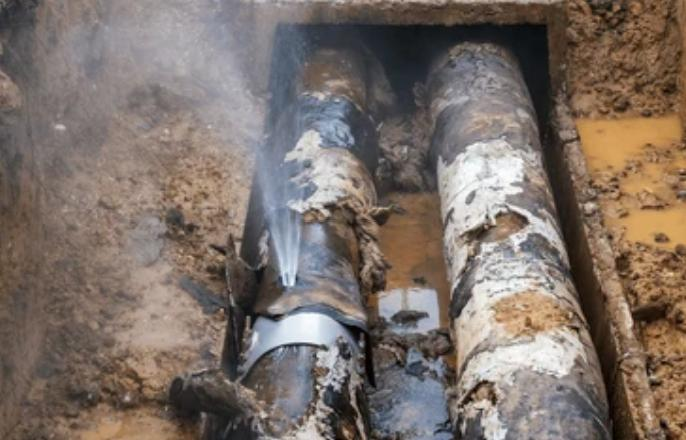pipe burst: (87, 2, 304, 290)
water accumulation: (368, 185, 457, 440), (574, 110, 686, 251)
